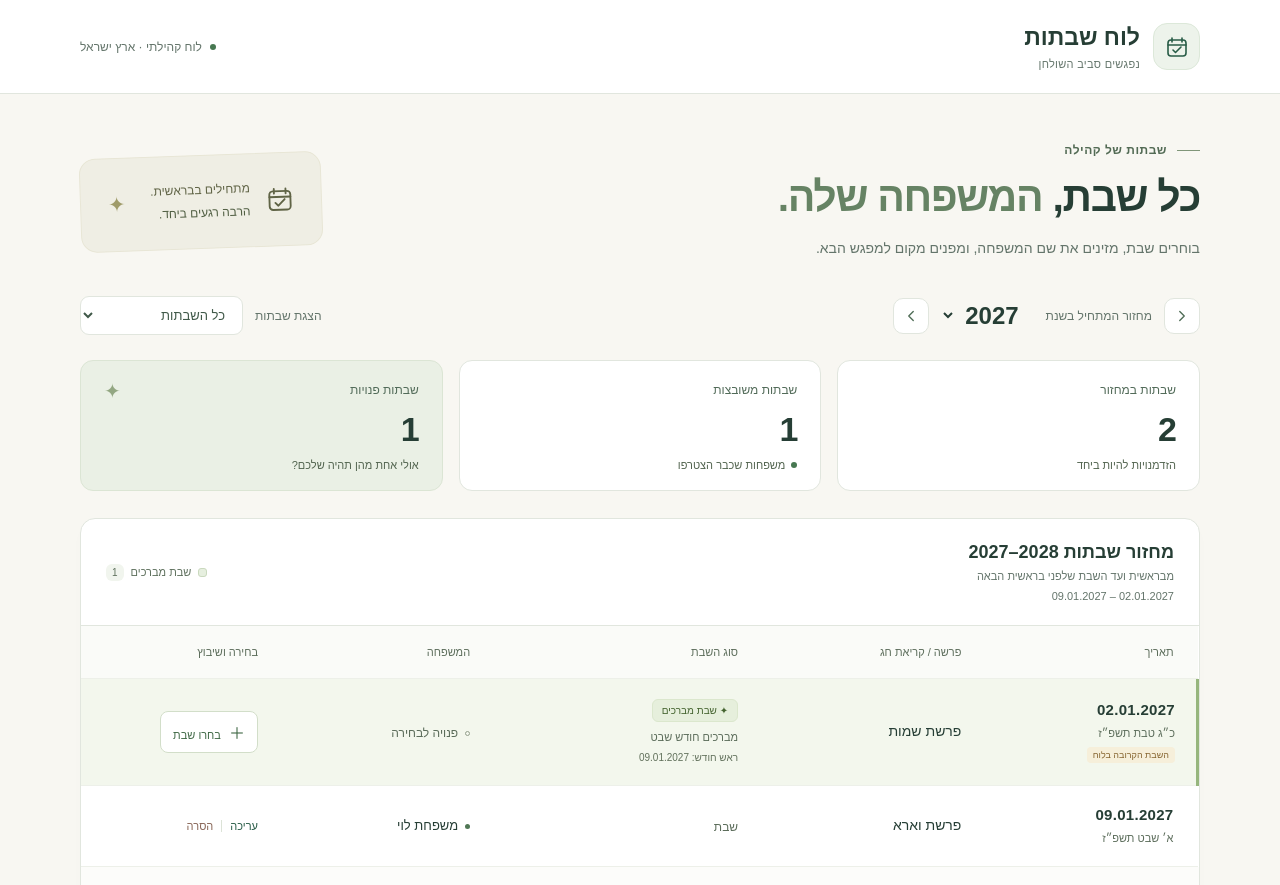
Scenario: calendar › keeps the dialog open and refreshes after a claim conflict
This screenshot has width=1280, height=885.
Click the button "＋ בחרו שבת".
click(209, 732)  # box [160,711,258,753]
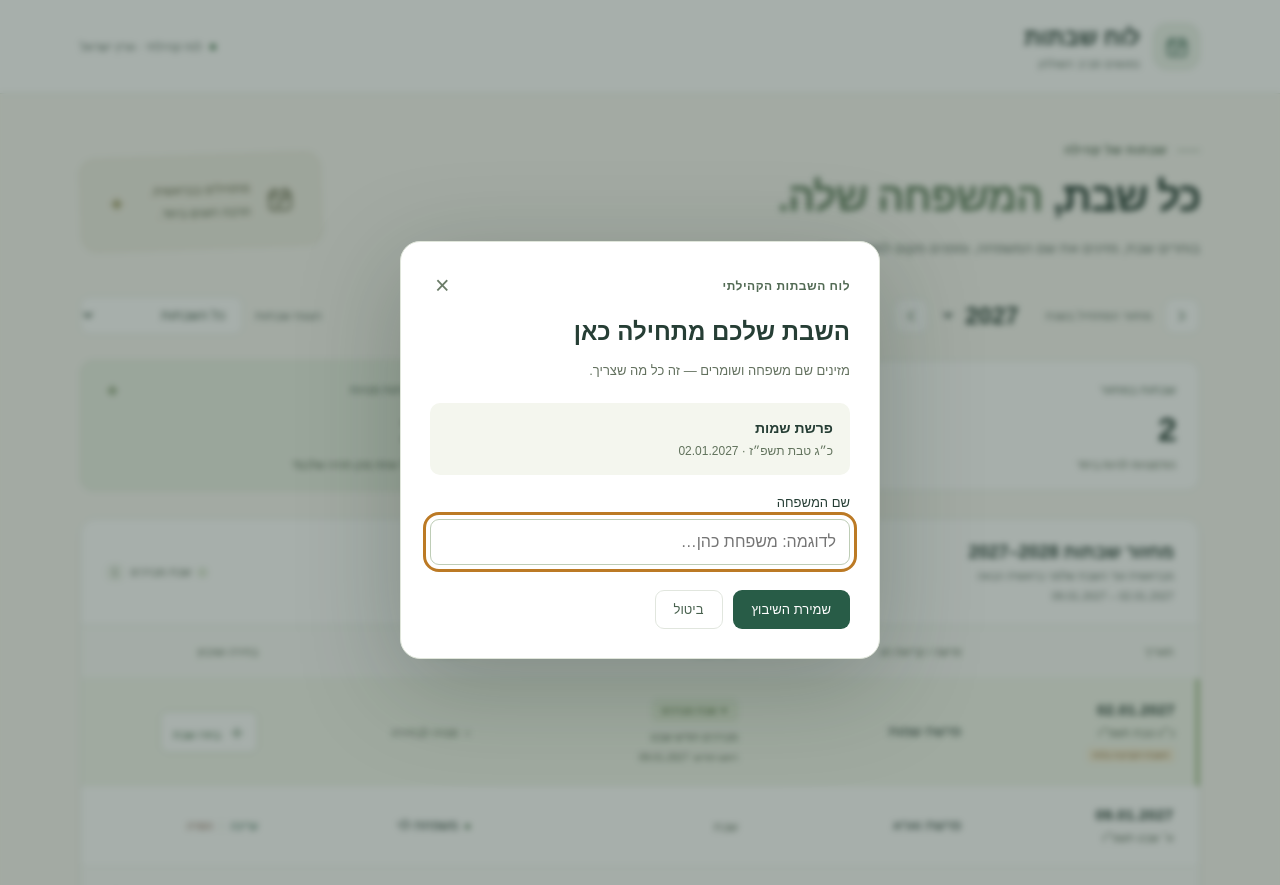
Type "Cohen" into the field labelled "שם המשפחה".
click(640, 542); type("Cohen")  # box [430,519,850,565]
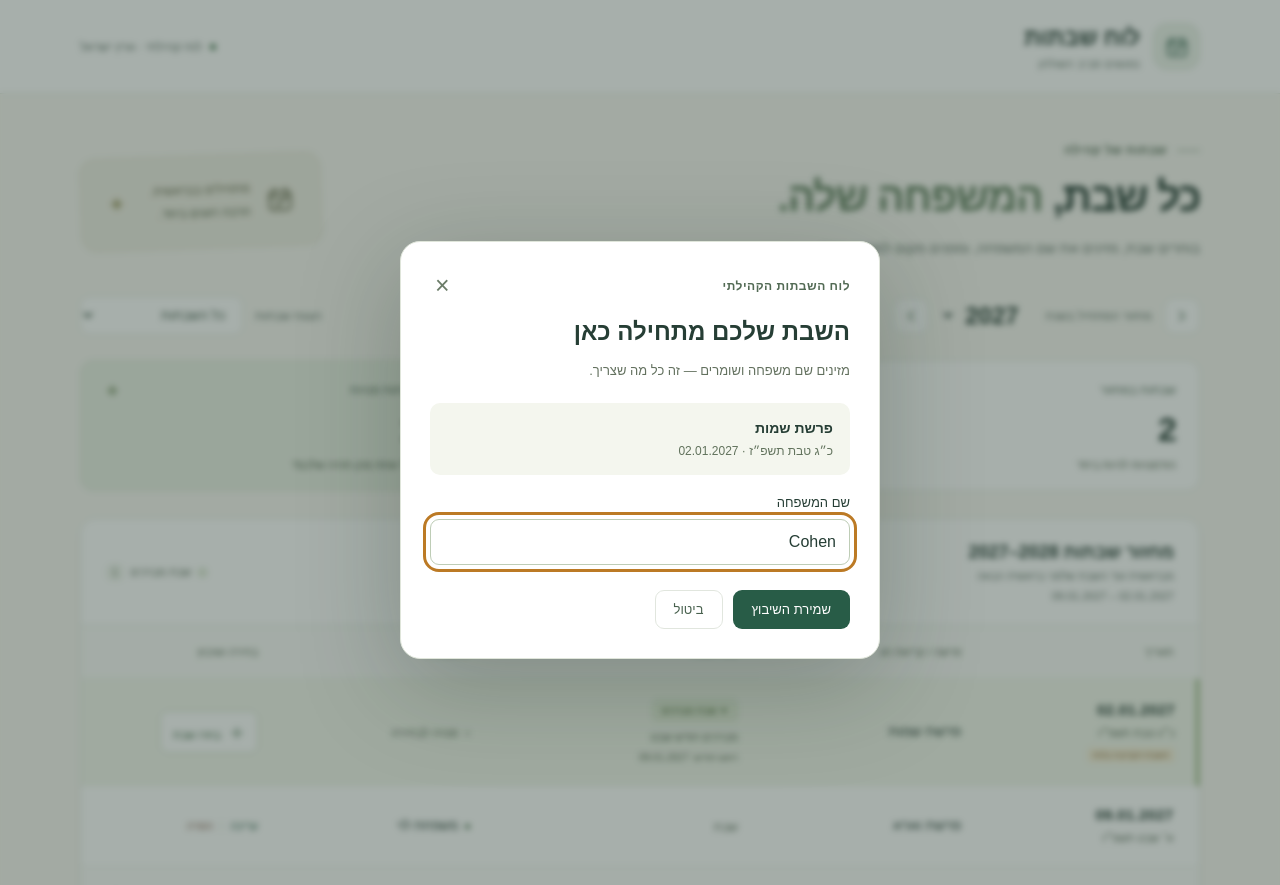
Click the button "שמירת השיבוץ".
click(791, 609)  # box [732,590,850,629]
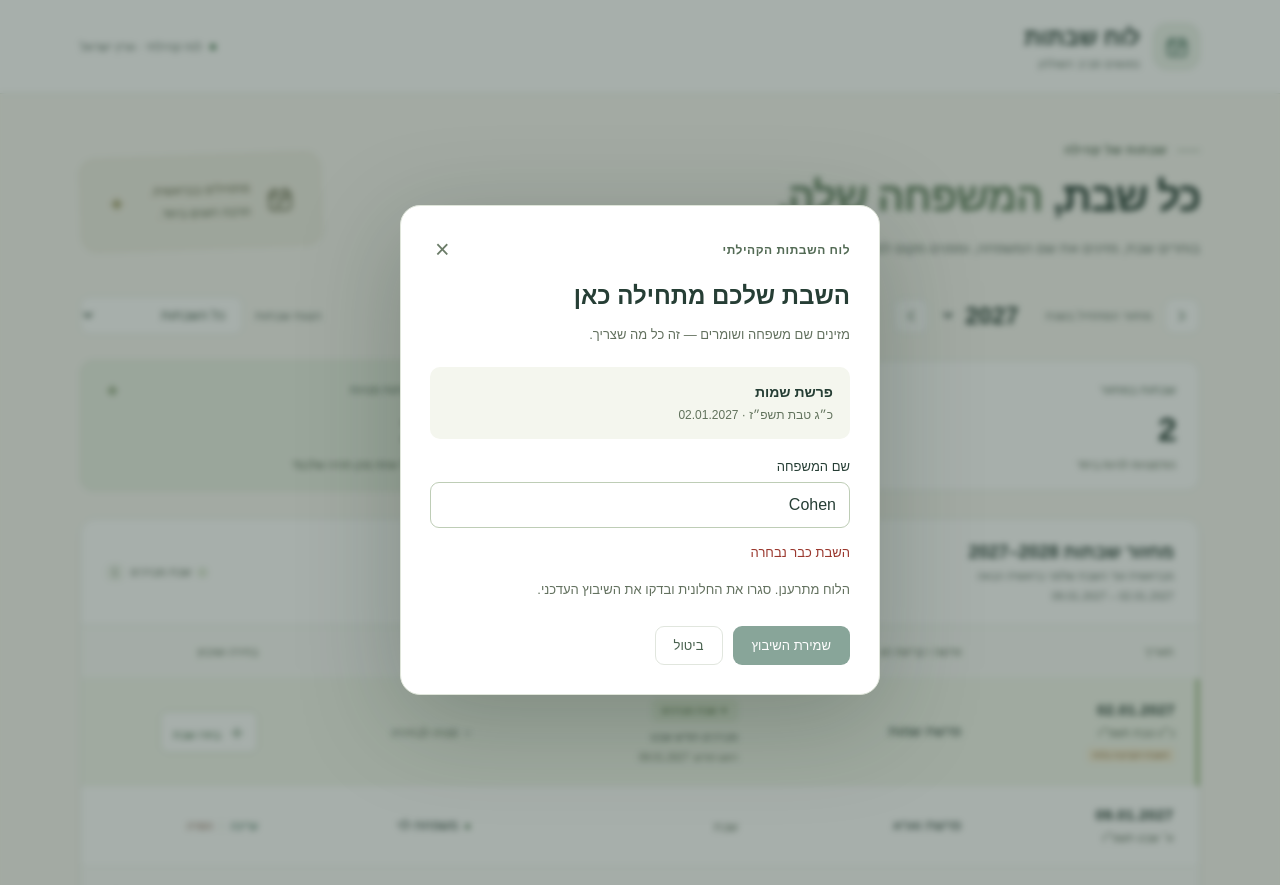
Now the message reads "השבת כבר נבחרה", box [750,545,850,560]
